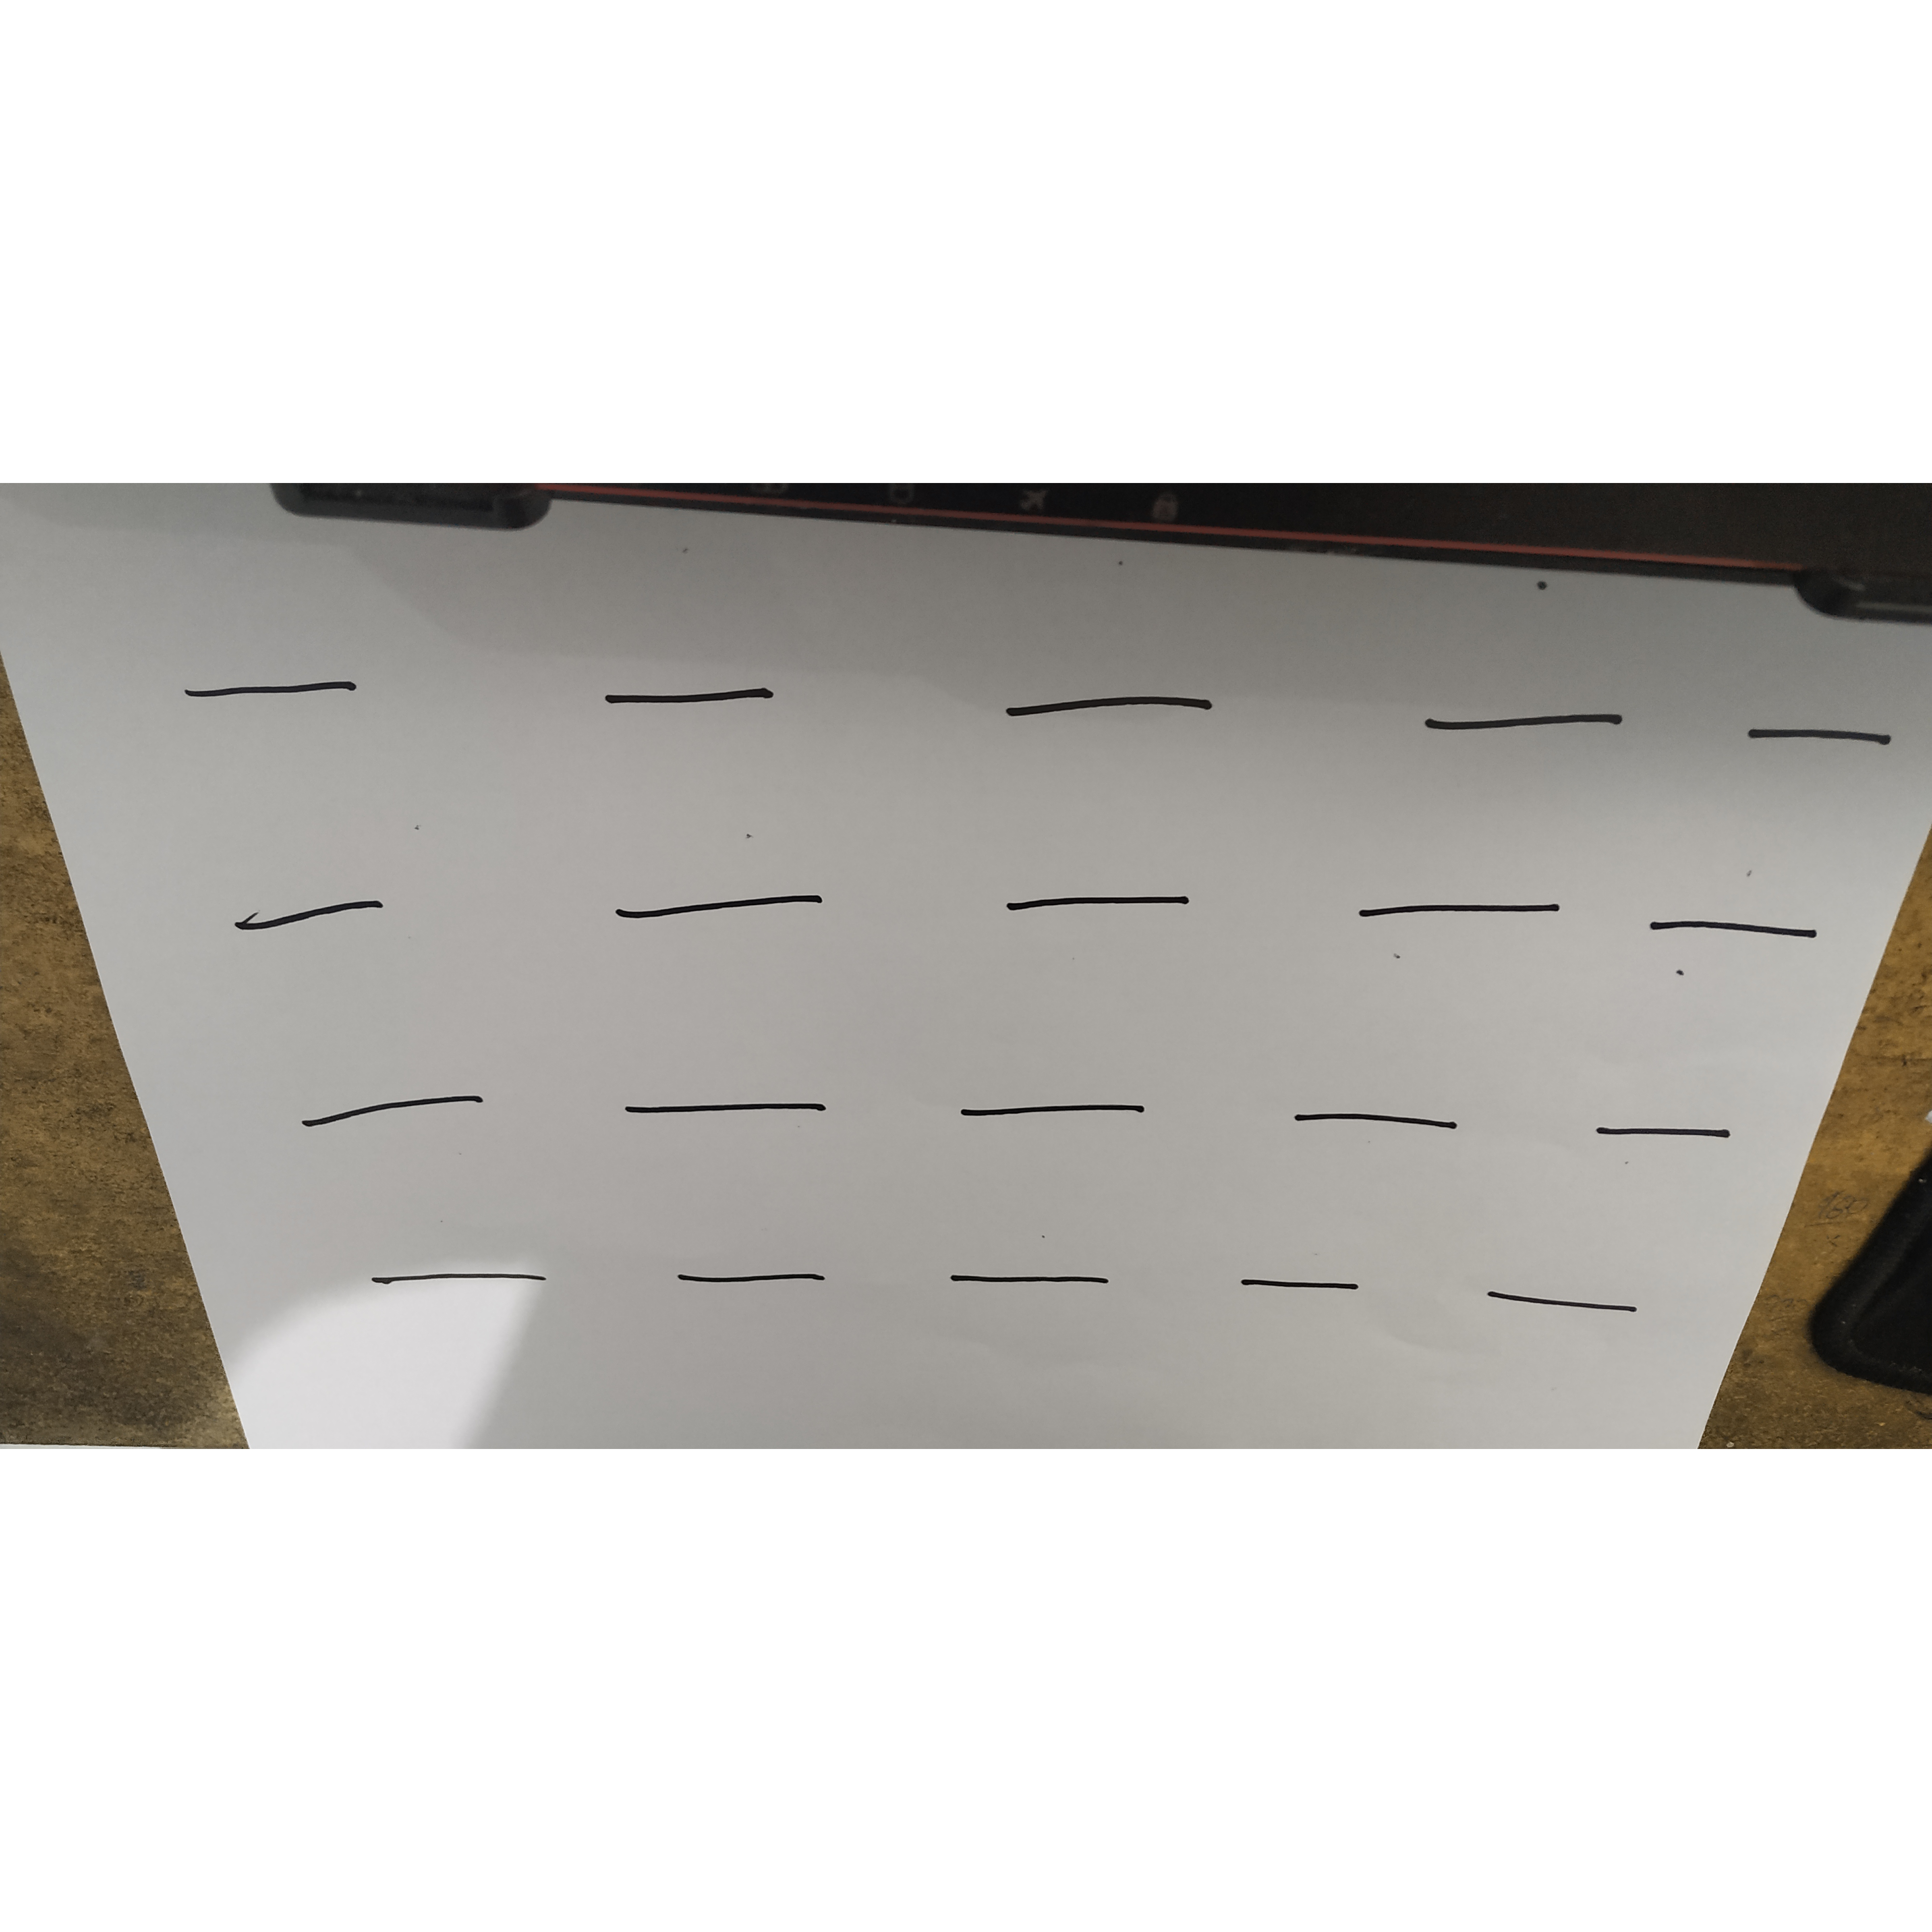min: (599, 1061, 883, 1159), (1383, 678, 1666, 767), (135, 645, 398, 731), (983, 657, 1252, 743), (587, 859, 866, 938), (1328, 865, 1592, 945), (1263, 1083, 1483, 1176), (568, 651, 832, 729), (194, 869, 419, 960), (967, 867, 1217, 947), (1712, 678, 1907, 775), (938, 1069, 1185, 1144), (1637, 878, 1832, 970), (1578, 1073, 1765, 1167), (276, 1077, 513, 1149), (1486, 1262, 1647, 1340), (355, 1250, 572, 1306), (652, 1251, 860, 1308), (933, 1247, 1135, 1306), (1229, 1258, 1380, 1310)
